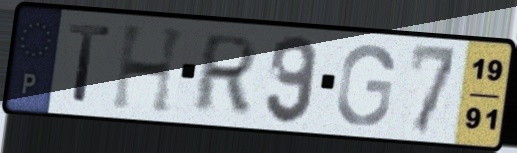7: (407, 41, 460, 138)
9: (265, 32, 321, 127)
G: (333, 42, 398, 129)
H: (108, 22, 191, 117)
R: (188, 31, 262, 115)
T: (66, 20, 113, 107)
